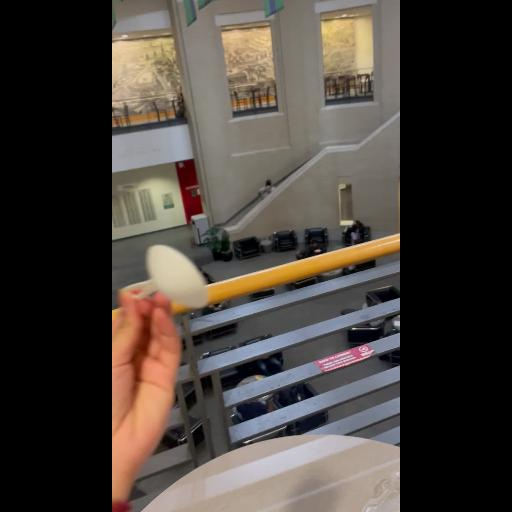utensil: (122, 245, 212, 313)
